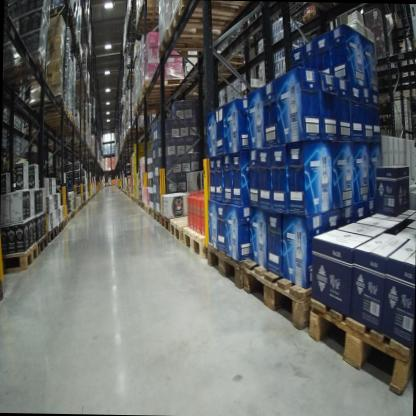pallet: (240, 232, 374, 333), (306, 290, 411, 400), (204, 5, 332, 78), (170, 3, 243, 38), (204, 237, 244, 300), (4, 49, 52, 95), (156, 30, 216, 60), (2, 241, 39, 279), (179, 0, 244, 15), (160, 206, 196, 233), (139, 74, 185, 95), (169, 212, 199, 244), (182, 226, 208, 262), (24, 96, 65, 116), (130, 14, 165, 36), (137, 87, 179, 103), (137, 2, 165, 22), (38, 107, 72, 123), (47, 2, 75, 19), (42, 104, 68, 121), (63, 44, 85, 63), (22, 120, 43, 137), (46, 117, 77, 128), (37, 232, 47, 256), (46, 224, 57, 243), (0, 275, 7, 303), (153, 207, 162, 227), (69, 78, 86, 86), (57, 220, 64, 236), (61, 215, 67, 230), (140, 197, 146, 212), (144, 200, 149, 215), (11, 152, 18, 162), (149, 206, 154, 218), (66, 213, 71, 224), (76, 204, 81, 215), (70, 209, 74, 219), (73, 207, 78, 215)
